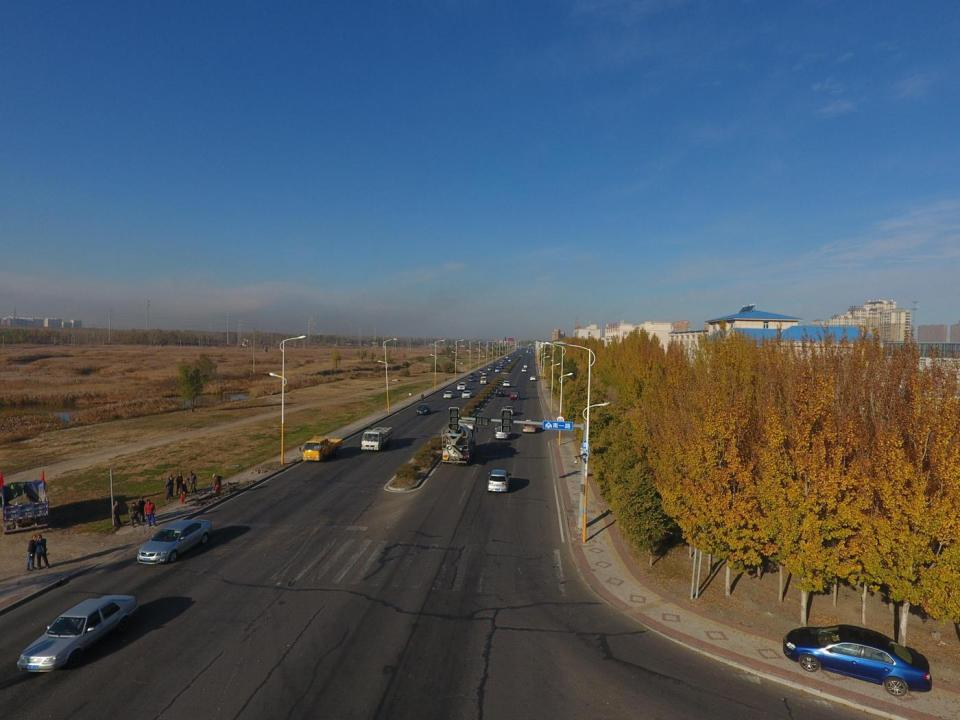car: (784, 623, 933, 696), (17, 594, 138, 673), (136, 520, 214, 566), (488, 469, 510, 492), (143, 499, 158, 526), (138, 498, 147, 524), (495, 425, 511, 439), (416, 403, 432, 416), (523, 420, 536, 433), (503, 405, 514, 416), (456, 381, 468, 390), (510, 390, 520, 400), (443, 390, 454, 399), (495, 388, 505, 396), (462, 391, 473, 398), (504, 380, 512, 386), (468, 376, 476, 382), (468, 372, 476, 377), (482, 370, 488, 375), (479, 368, 485, 373), (530, 376, 536, 380), (521, 368, 526, 372), (498, 365, 503, 369), (491, 364, 496, 368), (524, 364, 528, 368), (509, 358, 513, 361), (500, 363, 505, 365), (500, 359, 505, 361), (492, 361, 495, 364), (500, 361, 503, 364), (506, 356, 509, 359), (504, 361, 508, 363), (502, 358, 506, 360), (512, 356, 515, 358), (512, 354, 514, 356), (530, 351, 532, 353), (532, 350, 534, 352), (527, 350, 528, 351)
truck: (1, 481, 51, 532), (442, 419, 478, 466), (302, 436, 344, 464), (362, 426, 394, 452), (480, 376, 488, 384), (526, 351, 528, 353)
van: (495, 367, 501, 372), (487, 365, 492, 370), (508, 359, 511, 362)
